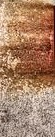Corrosion: (1, 1, 55, 95)
